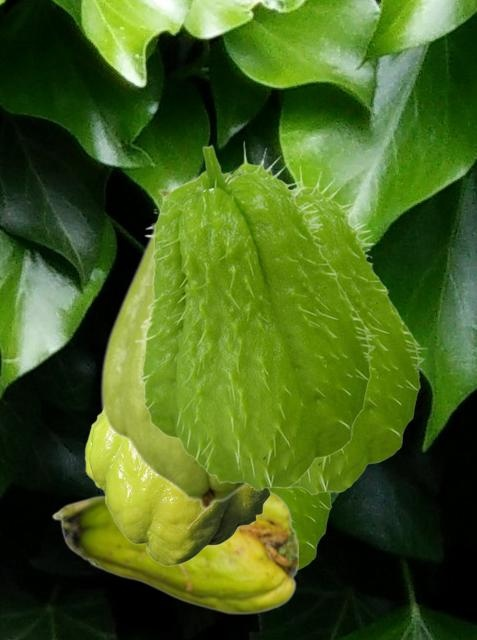sayote: (134, 140, 377, 490), (269, 164, 426, 494), (99, 175, 247, 509), (51, 491, 297, 614), (84, 412, 271, 565), (270, 488, 334, 570)
